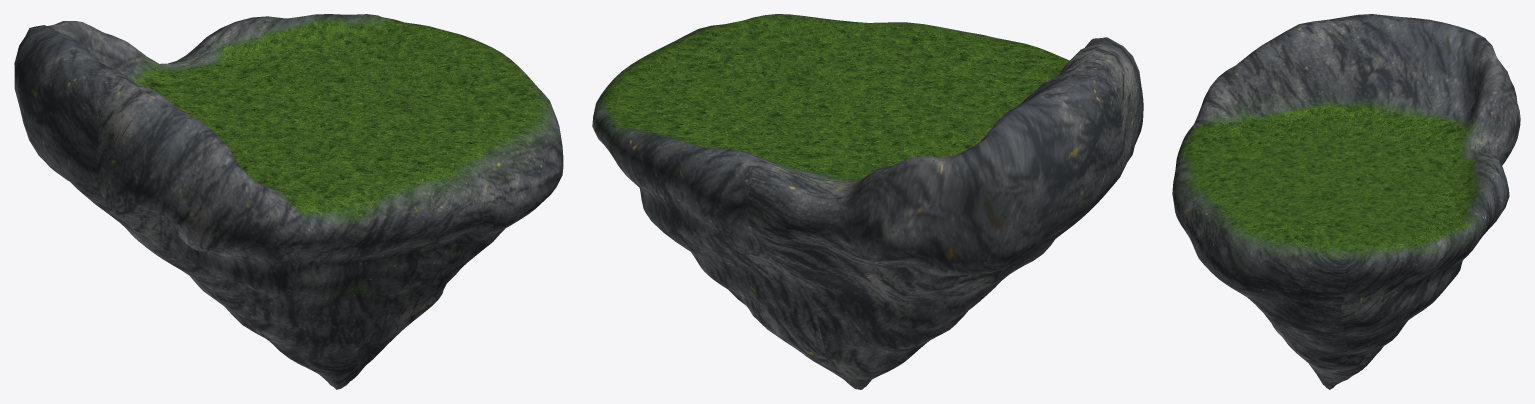
Rendered from TestIsland06.FBX.
The picture shows the model from 3 angles, left to right: view 1: azimuth 30°, elevation 25°; view 2: azimuth 150°, elevation 25°; view 3: azimuth 270°, elevation 25°; orthographic projection. The views are drawn at different scales.
Visible parts, largest first — view 1: TestIsland03; view 2: TestIsland03; view 3: TestIsland03.
Part boxes in pixels (x1,y1,x2,y2): TestIsland03: [14, 14, 563, 389]; TestIsland03: [592, 14, 1143, 389]; TestIsland03: [1172, 14, 1520, 389].
Size of the model in its own units: 418 by 318 by 352.
Materials: 1 (1 with a texture image).
